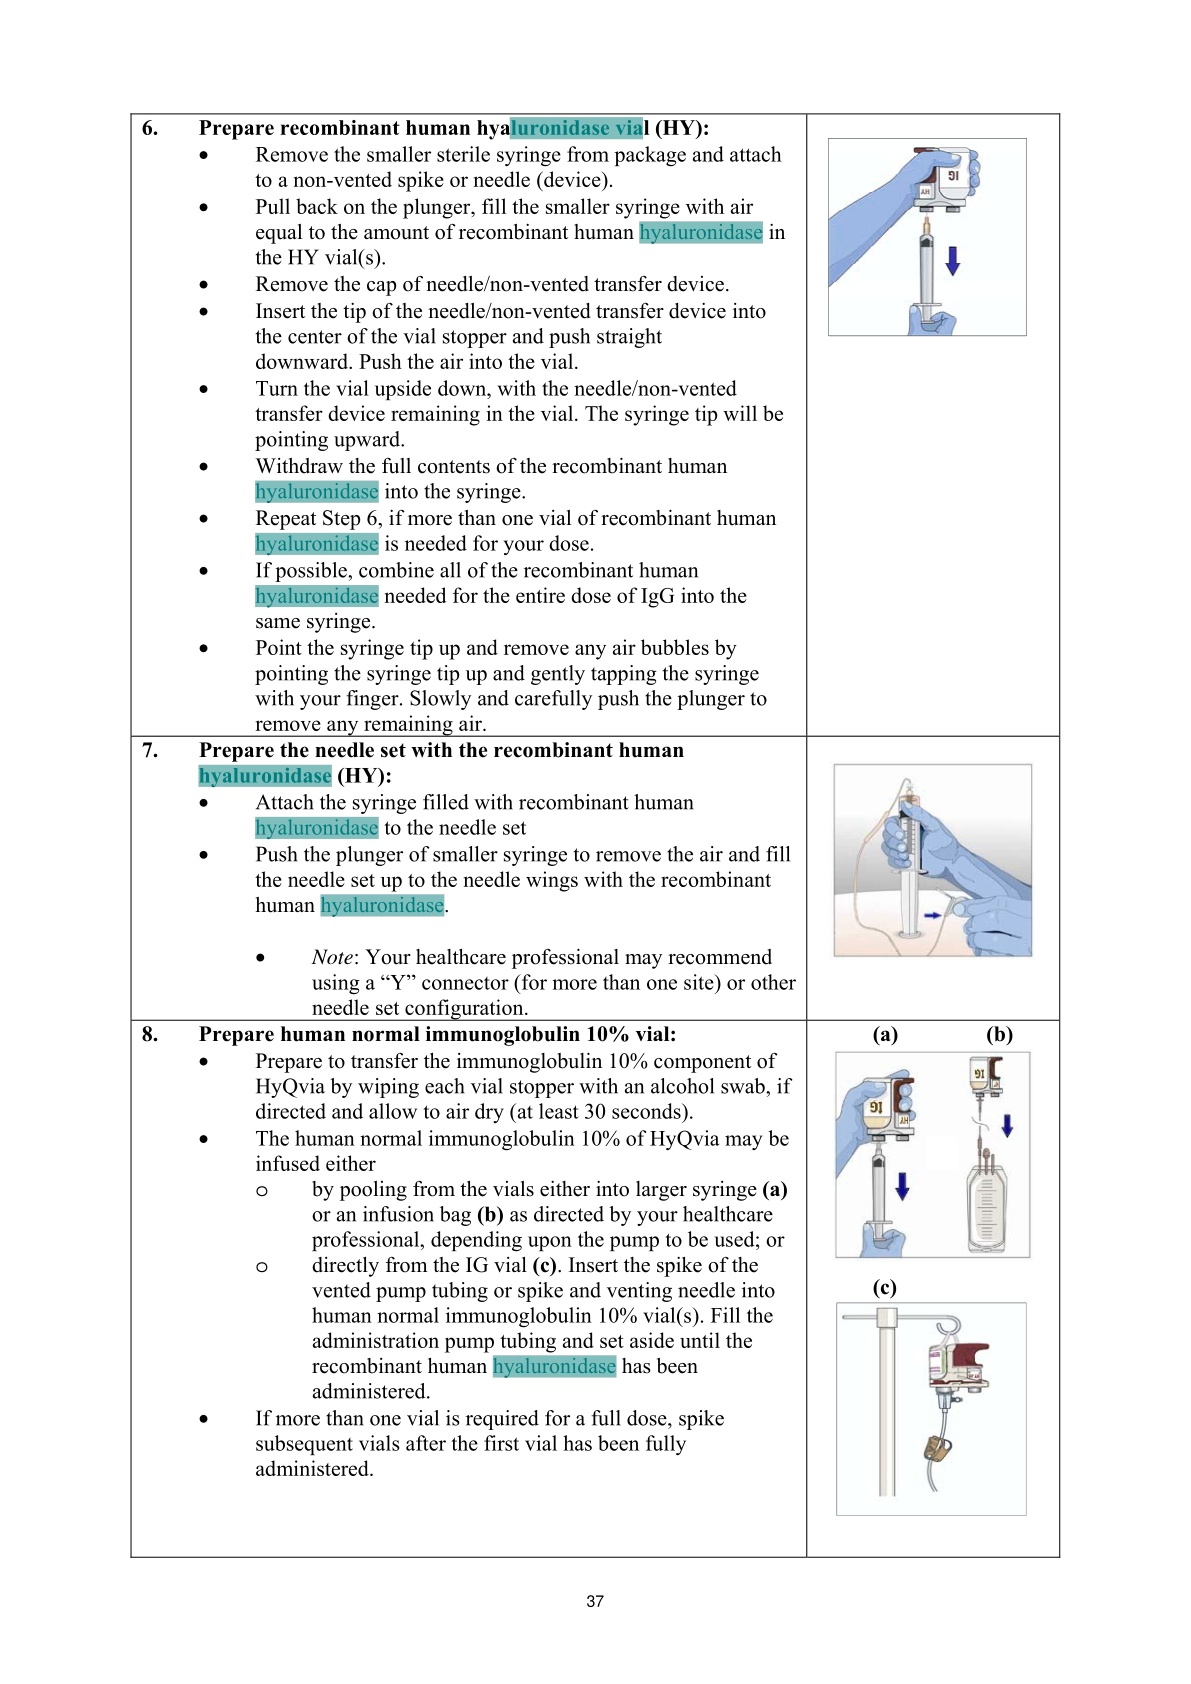full_lined: (129, 112, 1061, 1559)
